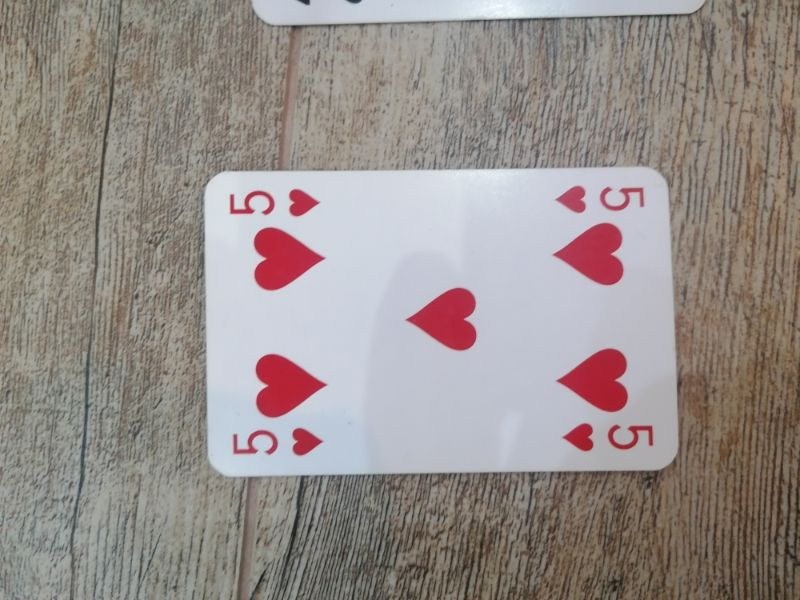5h: (225, 180, 322, 223), (553, 177, 649, 218), (227, 426, 327, 460), (559, 422, 658, 455)
